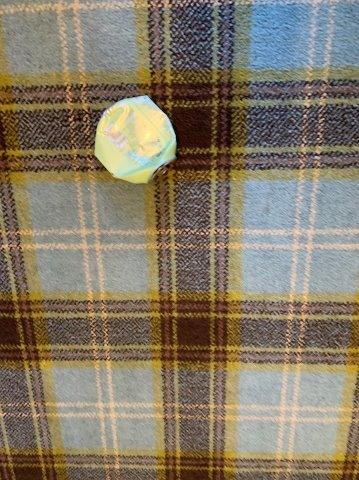kaleng: (95, 96, 176, 182)
